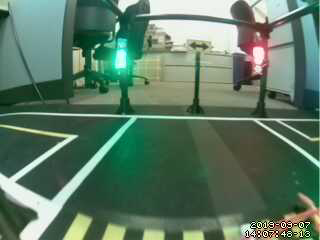Left_Right_sign: (187, 39, 212, 54)
Traffic_light_green: (114, 37, 125, 70)
Traffic_light_red: (252, 47, 267, 73)
